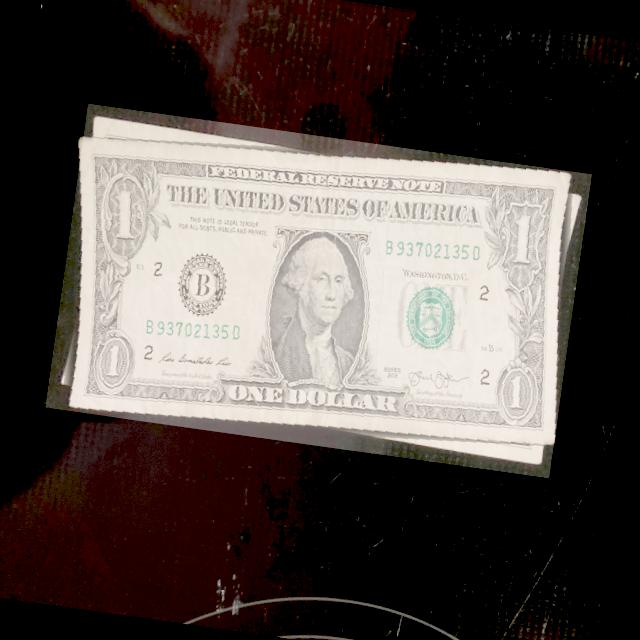one: (45, 104, 592, 478)
